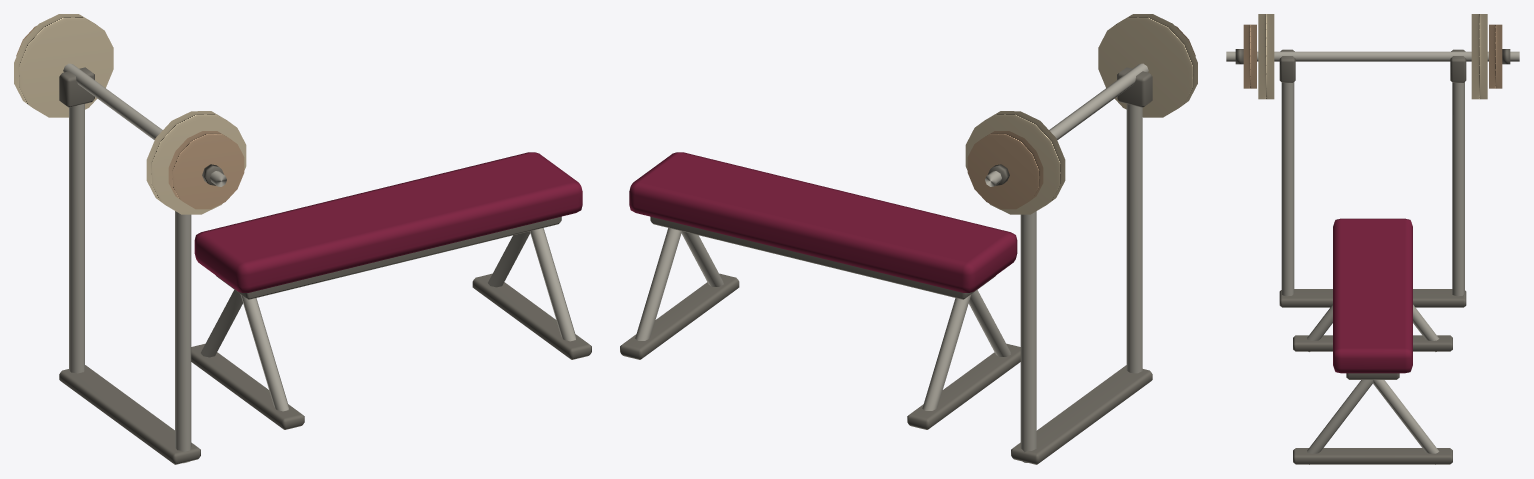
Rendered from weight_bench.glb.
3 views of the same model, side by side, from view 1: azimuth 30°, elevation 25°; view 2: azimuth 150°, elevation 25°; view 3: azimuth 270°, elevation 25° (orthographic). The views are drawn at different scales.
Parts seen in each view (by area): view 1: Bench; view 2: Bench; view 3: Bench.
Part boxes in pixels (left/top/right/bottom): Bench: left=14, top=14, right=591, bottom=464; Bench: left=620, top=14, right=1197, bottom=464; Bench: left=1226, top=14, right=1519, bottom=464.
Bounding box in the file's own units: 1.66 × 1.19 × 1.1.
